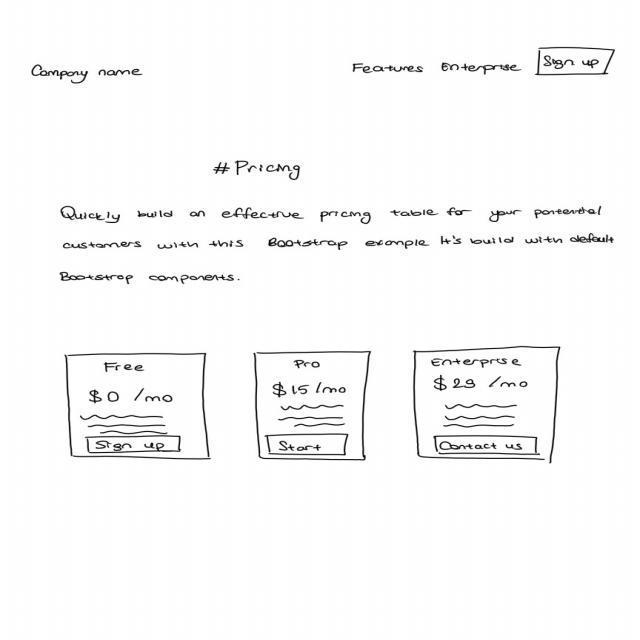button: (535, 46, 617, 78), (433, 435, 542, 457), (265, 434, 352, 457), (85, 436, 184, 454)
container: (414, 346, 564, 461), (66, 353, 212, 461), (255, 351, 374, 463)
label: (352, 61, 524, 78), (30, 64, 148, 85), (212, 159, 304, 183), (430, 374, 532, 392), (269, 382, 352, 400), (89, 388, 176, 405), (429, 356, 524, 369), (103, 360, 148, 373), (293, 360, 326, 370)
textbox: (59, 204, 617, 287), (442, 403, 521, 429), (79, 415, 171, 436), (278, 405, 348, 429)
